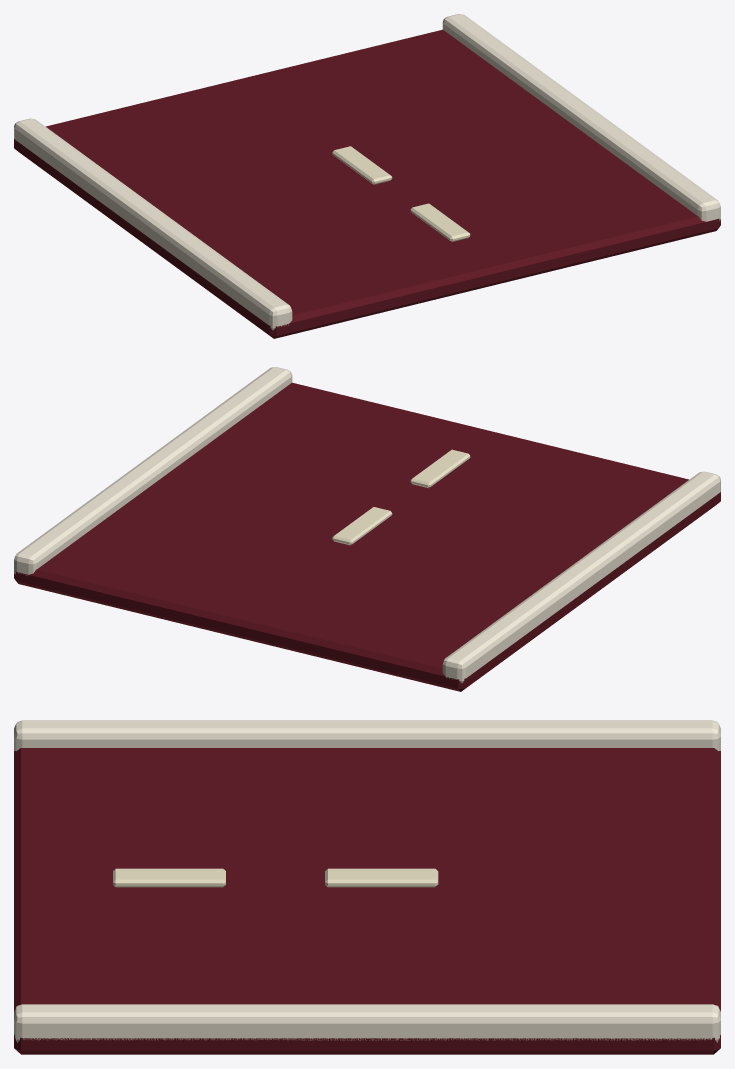
Rendered from road-straight.glb.
The picture shows the model from 3 angles, top to bottom: view 1: azimuth 30°, elevation 25°; view 2: azimuth 150°, elevation 25°; view 3: azimuth 270°, elevation 25°; orthographic projection. The views are drawn at different scales.
Visible parts, largest first — view 1: Cube, Cube.001, Cube.002, Cube.003, Cube.004; view 2: Cube, Cube.001, Cube.002, Cube.003, Cube.004; view 3: Cube, Cube.002, Cube.001, Cube.004, Cube.003.
Boxes of the visible parts, left/top/right/bottom form: Cube: left=14, top=29, right=720, bottom=338; Cube.001: left=14, top=118, right=292, bottom=330; Cube.002: left=442, top=14, right=720, bottom=221; Cube.003: left=410, top=203, right=470, bottom=241; Cube.004: left=332, top=146, right=392, bottom=184; Cube: left=14, top=382, right=720, bottom=691; Cube.001: left=442, top=471, right=720, bottom=683; Cube.002: left=14, top=367, right=292, bottom=575; Cube.003: left=410, top=449, right=470, bottom=488; Cube.004: left=332, top=507, right=392, bottom=545; Cube: left=14, top=748, right=720, bottom=1054; Cube.002: left=14, top=1004, right=720, bottom=1042; Cube.001: left=14, top=720, right=720, bottom=750; Cube.004: left=325, top=868, right=438, bottom=887; Cube.003: left=113, top=868, right=225, bottom=887.
Bounding box in the file's own units: 1 × 0.065 × 1.
